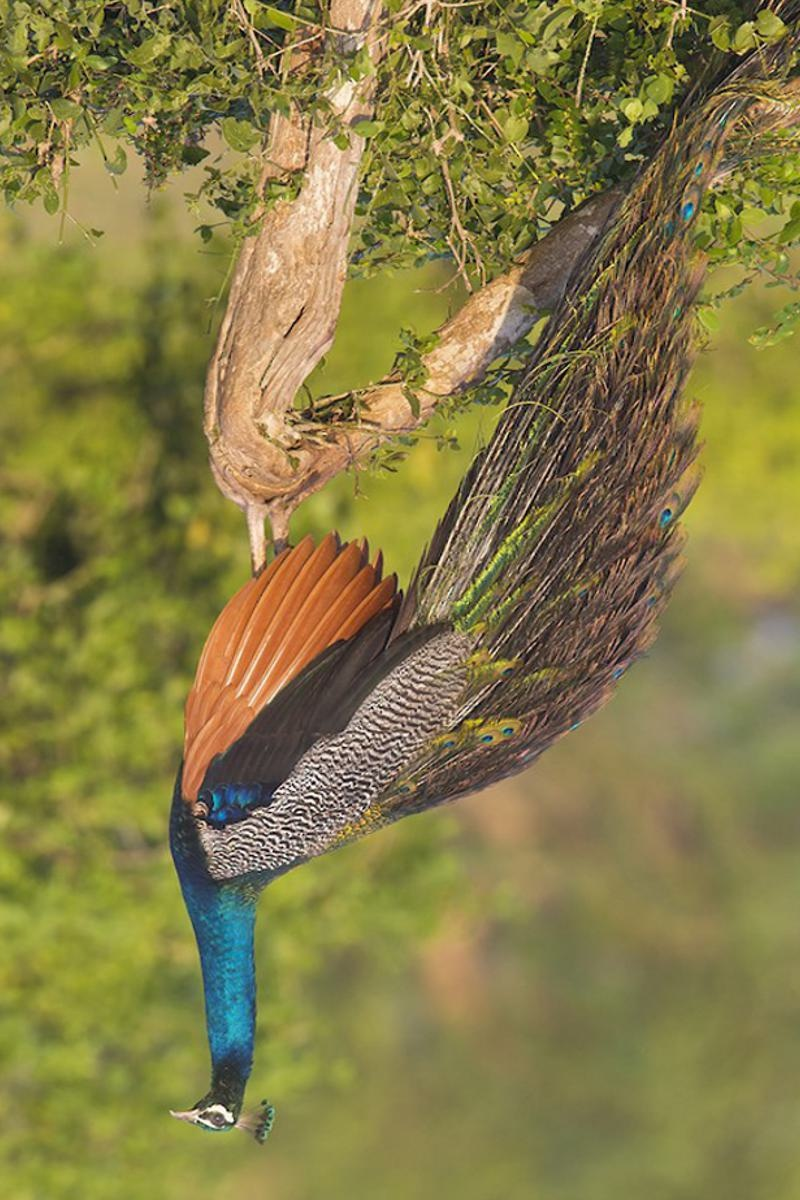peacock: (143, 264, 714, 1167)
